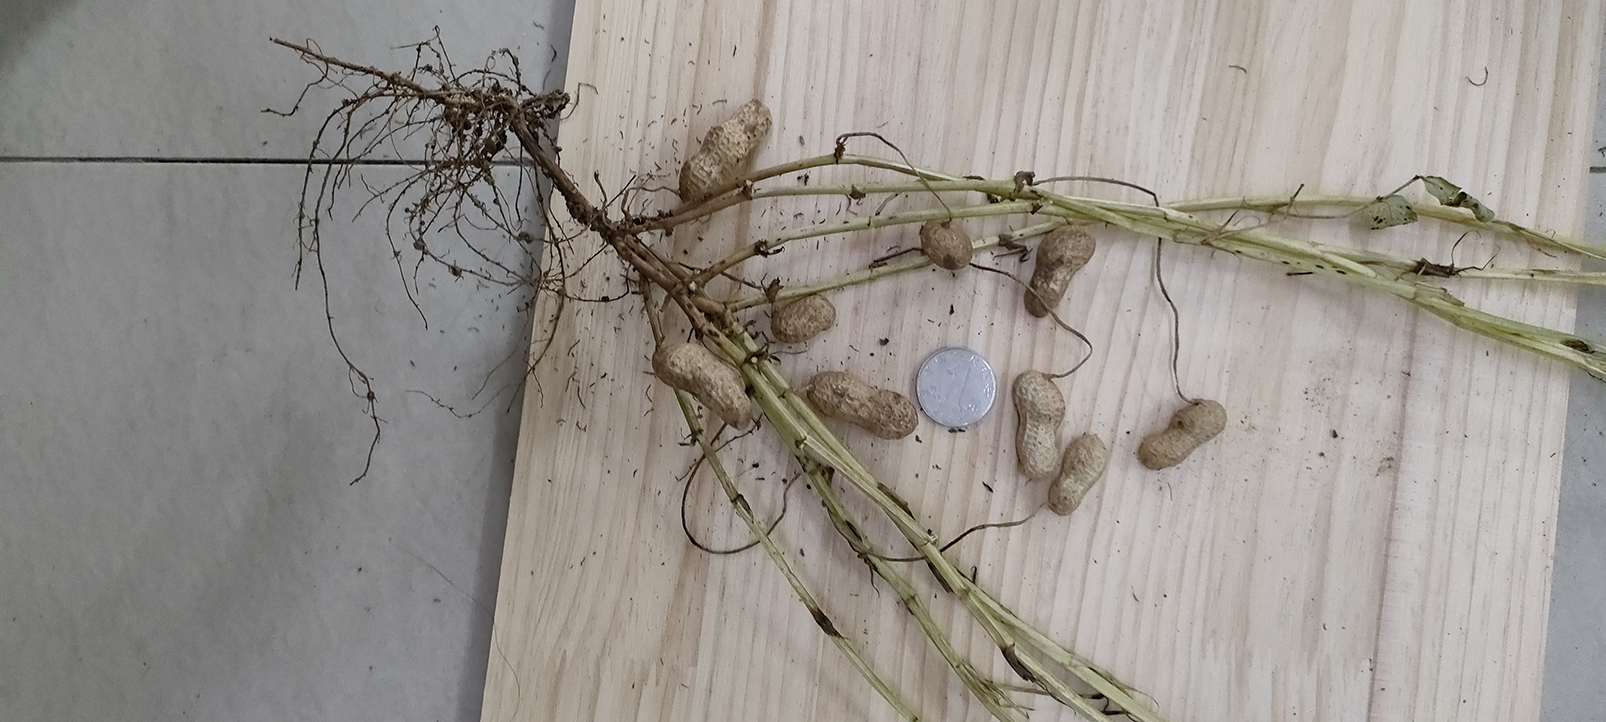h: (678, 99, 772, 201), (653, 340, 752, 432), (807, 372, 918, 439), (1138, 399, 1228, 470), (1013, 369, 1065, 480), (1048, 433, 1107, 515), (769, 294, 835, 343), (919, 218, 972, 271)
l: (1025, 225, 1097, 317)
